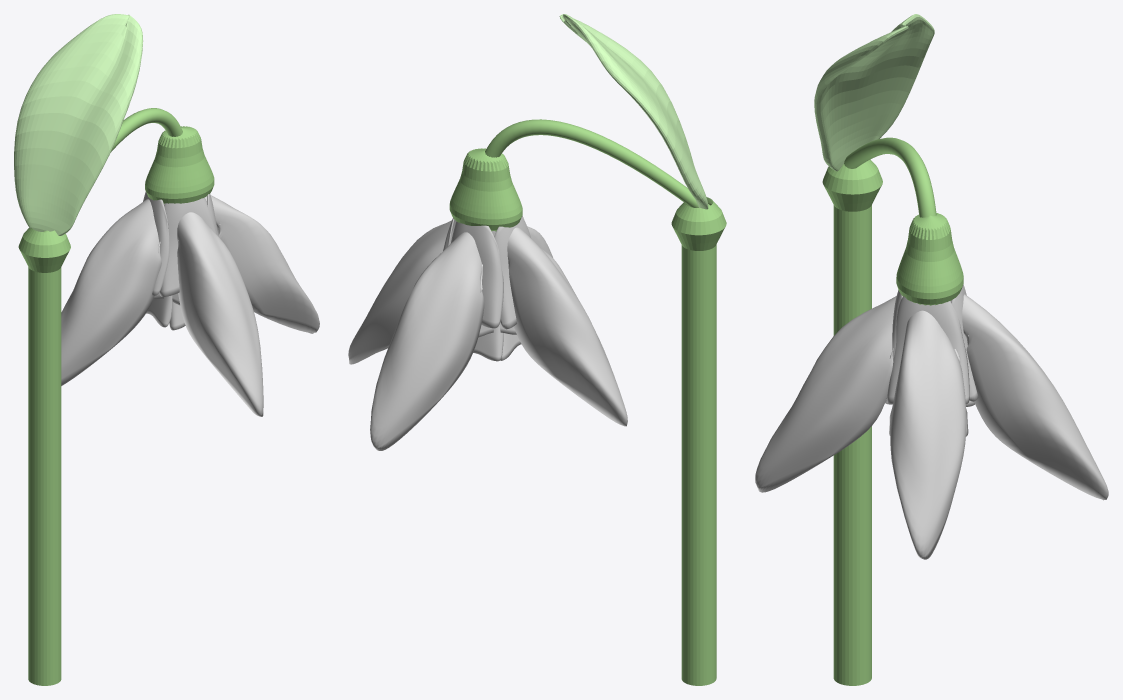
File: snowdrop.fbx
3 renders of one model, left to right at view 1: azimuth 30°, elevation 25°; view 2: azimuth 150°, elevation 25°; view 3: azimuth 270°, elevation 25°, orthographic. The views are drawn at different scales.
Visible parts, largest first — view 1: Plane.016, Cylinder.002, Plane.002, Plane.007, Plane.001, Cylinder.001, Plane, NurbsPath, Plane.006, Plane.012; view 2: Cylinder.002, Plane.003, Plane.002, Plane.016, Plane.001, Cylinder.001, NurbsPath, Plane.005, Plane.006, Plane.015; view 3: Cylinder.002, Plane.001, Plane.007, Plane.003, Plane.016, Cylinder.001, Plane.004, NurbsPath, Plane.005.
Part boxes in pixels (left/top/right/bottom): Plane.016: left=14, top=14, right=143, bottom=235; Cylinder.002: left=18, top=228, right=70, bottom=685; Plane.002: left=61, top=199, right=164, bottom=385; Plane.007: left=177, top=212, right=263, bottom=416; Plane.001: left=204, top=195, right=319, bottom=333; Cylinder.001: left=145, top=126, right=214, bottom=203; Plane: left=159, top=197, right=216, bottom=297; NurbsPath: left=43, top=108, right=182, bottom=232; Plane.006: left=143, top=191, right=169, bottom=295; Plane.012: left=146, top=295, right=172, bottom=327; Cylinder.002: left=671, top=197, right=726, bottom=685; Plane.003: left=370, top=232, right=484, bottom=450; Plane.002: left=507, top=227, right=627, bottom=426; Plane.016: left=559, top=14, right=708, bottom=209; Plane.001: left=348, top=220, right=454, bottom=364; Cylinder.001: left=449, top=148, right=522, bottom=231; NurbsPath: left=485, top=119, right=710, bottom=207; Plane.005: left=450, top=221, right=503, bottom=328; Plane.006: left=494, top=216, right=530, bottom=329; Plane.015: left=473, top=324, right=503, bottom=361; Cylinder.002: left=822, top=159, right=882, bottom=685; Plane.001: left=890, top=310, right=966, bottom=559; Plane.007: left=755, top=296, right=896, bottom=492; Plane.003: left=962, top=294, right=1108, bottom=500; Plane.016: left=814, top=14, right=934, bottom=171; Cylinder.001: left=896, top=213, right=963, bottom=305; Plane.004: left=886, top=296, right=969, bottom=404; NurbsPath: left=844, top=137, right=936, bottom=217; Plane.005: left=951, top=284, right=978, bottom=401.
Bounding box in the file's own units: 503 × 917 × 411.
